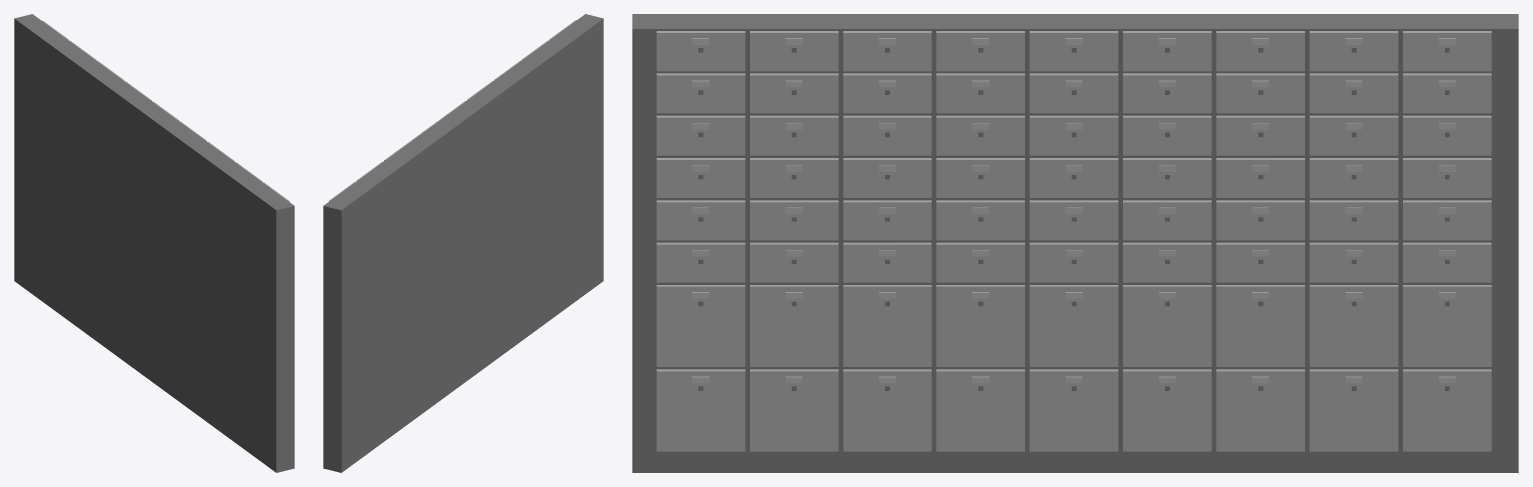
The model's file is SM_depositBoxes.glb.
3 renders of one model, left to right at view 1: azimuth 30°, elevation 25°; view 2: azimuth 150°, elevation 25°; view 3: azimuth 270°, elevation 25°, orthographic. The views are drawn at different scales.
Visible parts, largest first — view 1: SM_depositBoxes; view 2: SM_depositBoxes; view 3: SM_depositBoxes.
Part boxes in pixels (left/top/right/bottom): SM_depositBoxes: left=14, top=14, right=294, bottom=472; SM_depositBoxes: left=323, top=14, right=603, bottom=472; SM_depositBoxes: left=632, top=14, right=1518, bottom=472.
Size of the model in its own units: 0.1775 by 2.1 by 3.8.
1 material, 1 textured.
